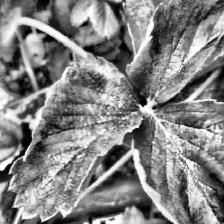Powdery Mildew Leaf: (6, 52, 142, 224), (131, 98, 223, 224), (125, 0, 224, 106)
